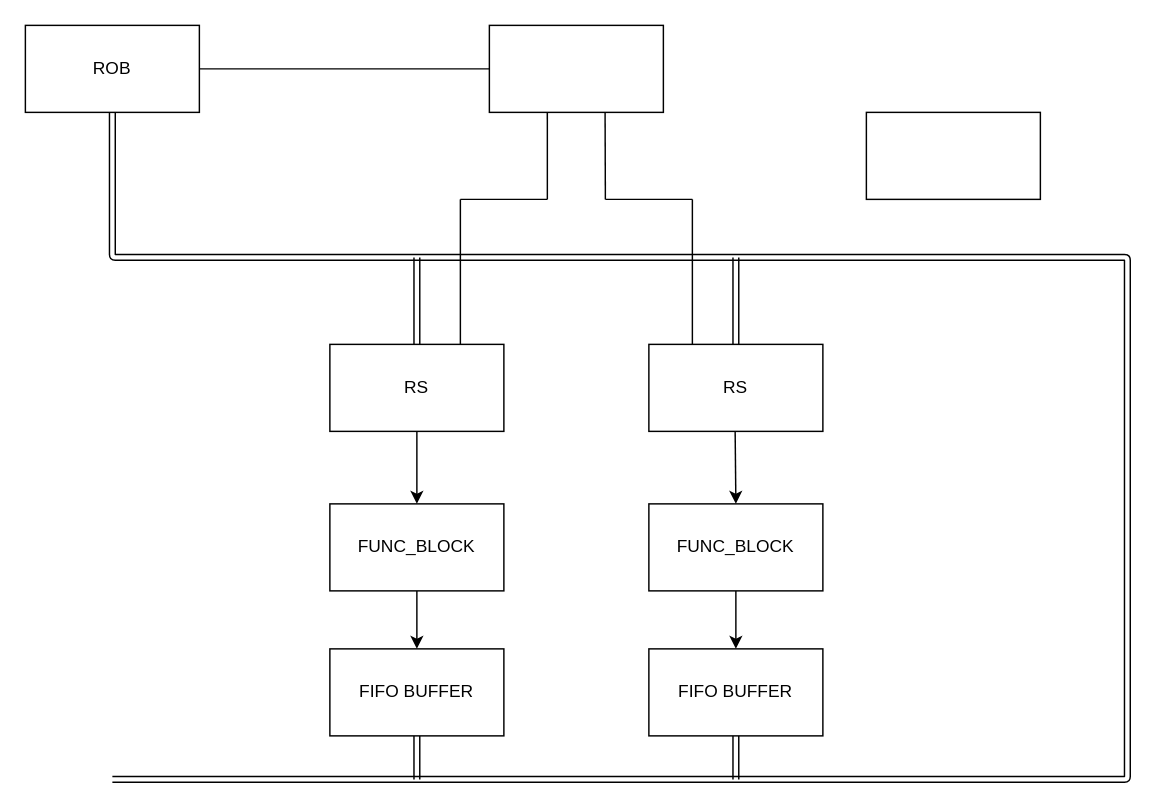
Image size: 1156x808. Some labels were removed from this diagram. Each missing label, with the centre of its shape:
CDB ARBITER: the point at 952,155
RF: the point at 575,68
